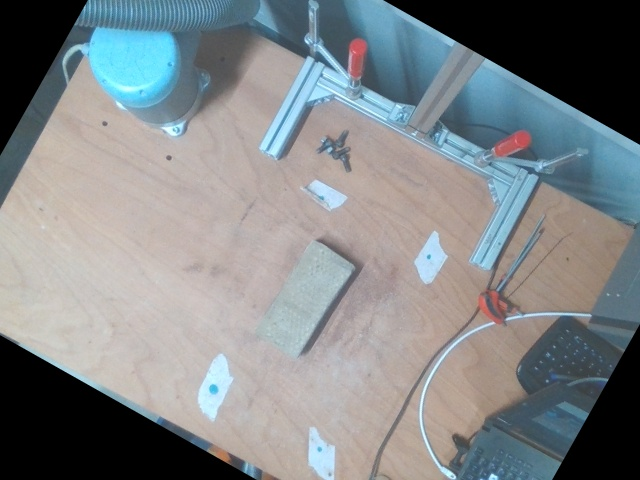brick: (251, 238, 356, 361)
